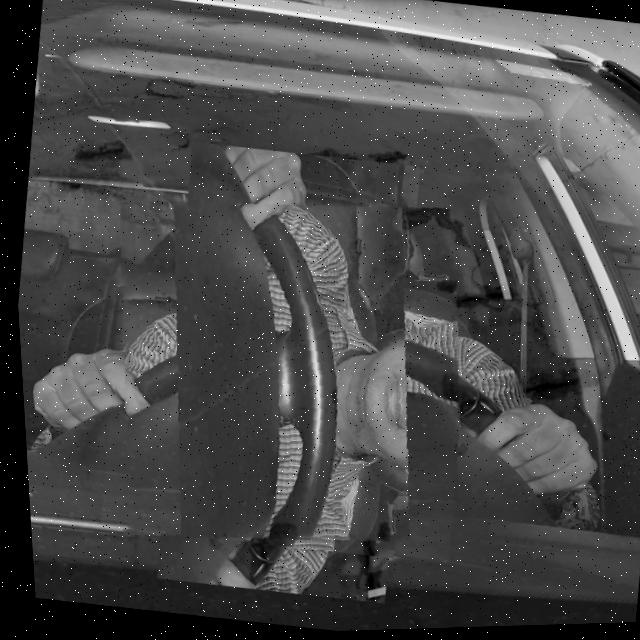no-seatbelt: (78, 172, 489, 574)
